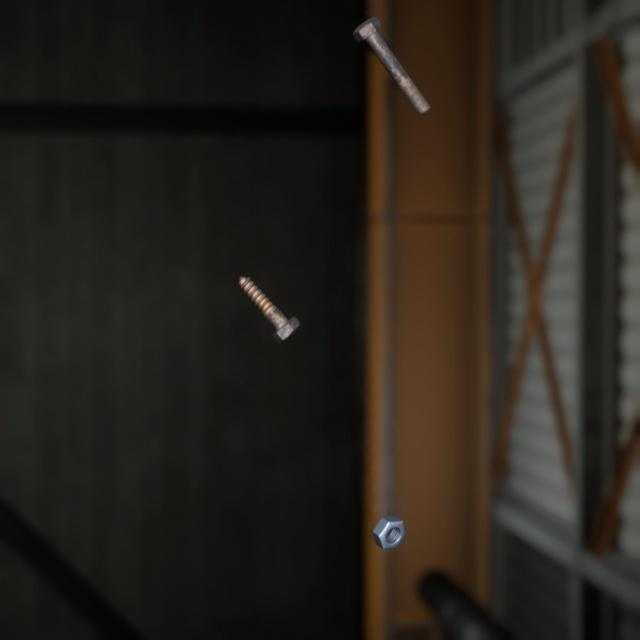bolt: (348, 3, 434, 110), (234, 254, 305, 329)
nut: (367, 490, 410, 532)
